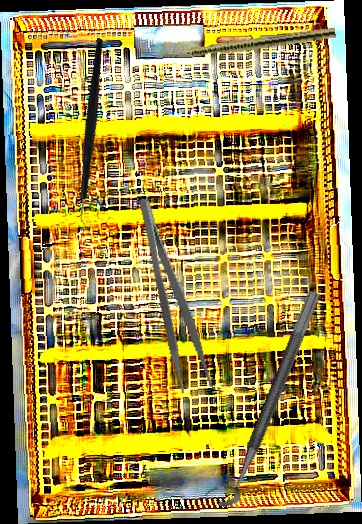Chopper: (19, 37, 169, 234)
Dressing Forceps: (134, 193, 214, 395)
Fixation Ring: (203, 282, 322, 512)
Handpiece: (157, 24, 337, 64)
